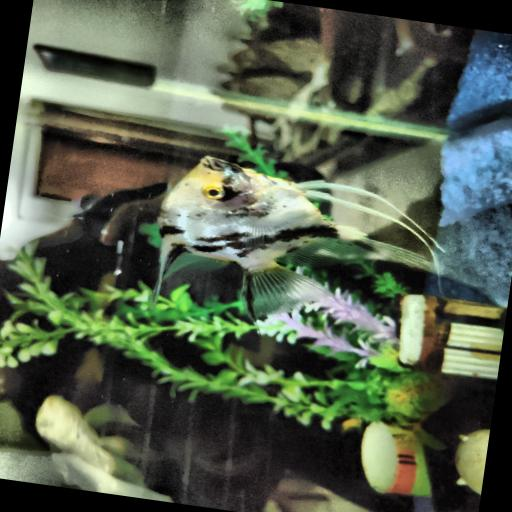Fish: (159, 157, 430, 319), (36, 396, 170, 501), (36, 396, 133, 475)
